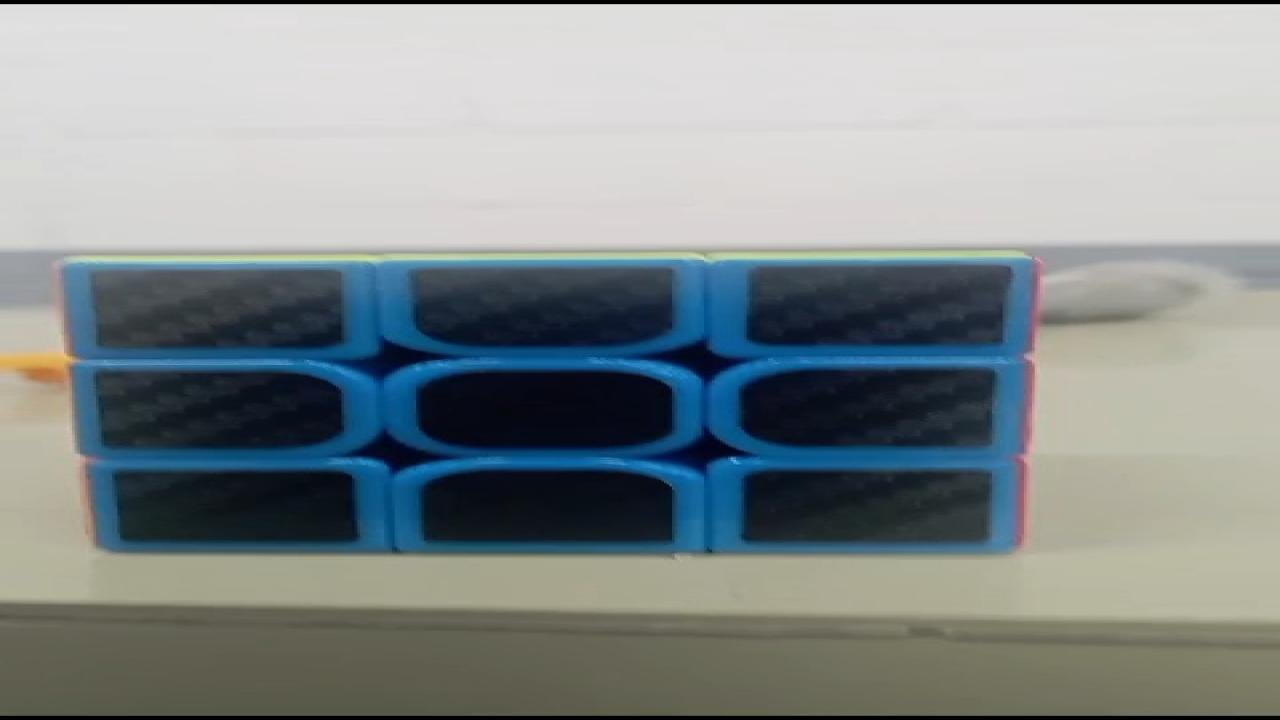Cube: (56, 249, 1045, 556)
